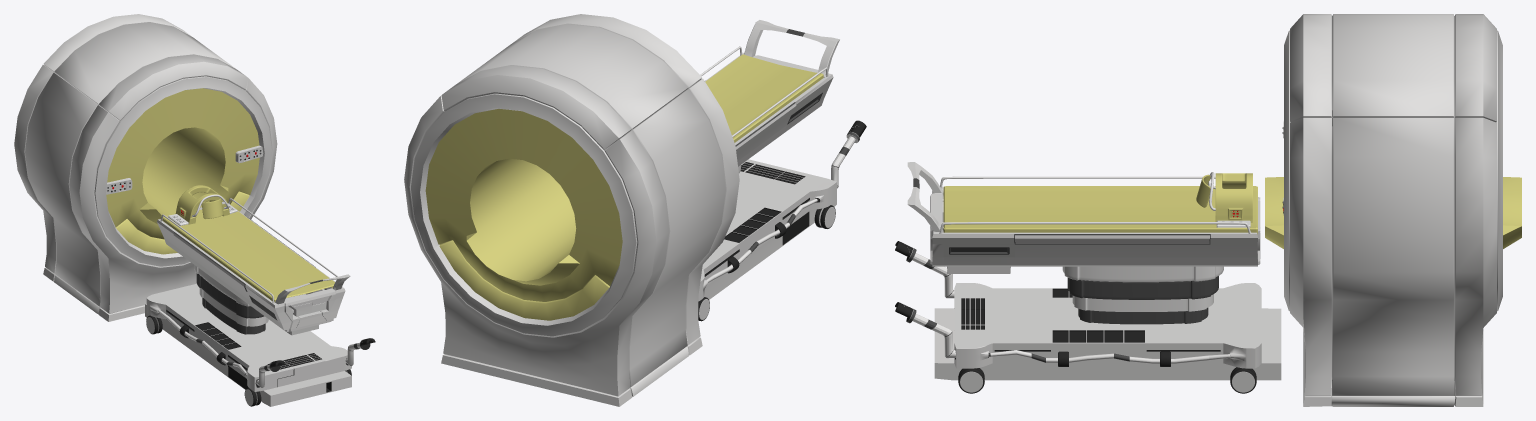
The model's file is mri texture.fbx.
The picture shows the model from 3 angles, left to right: view 1: azimuth 30°, elevation 25°; view 2: azimuth 150°, elevation 25°; view 3: azimuth 270°, elevation 25°; orthographic projection. The views are drawn at different scales.
Visible parts, largest first — view 1: Cylinder039, Box011, Object005, Object006, Rectangle003, Line011, Rectangle001, Rectangle005, Rectangle004, Box016, Box007; view 2: Cylinder039, Box011, Object005, Line011; view 3: Cylinder039, Box011, Object005, Rectangle003, Rectangle004, Line002, Object006, Rectangle001, Rectangle005, Line010, Line009, Line011 (+2 smaller).
Part boxes in pixels (x1=…): Cylinder039: x1=14, y1=14, x2=277, y2=321; Box011: x1=157, y1=209, x2=350, y2=335; Object005: x1=145, y1=283, x2=351, y2=406; Object006: x1=175, y1=185, x2=229, y2=224; Rectangle003: x1=196, y1=273, x2=264, y2=318; Line011: x1=157, y1=310, x2=284, y2=387; Rectangle001: x1=199, y1=288, x2=268, y2=326; Rectangle005: x1=202, y1=298, x2=265, y2=334; Rectangle004: x1=194, y1=265, x2=250, y2=306; Box016: x1=201, y1=198, x2=223, y2=219; Box007: x1=235, y1=145, x2=263, y2=163; Cylinder039: x1=404, y1=14, x2=739, y2=406; Box011: x1=705, y1=20, x2=839, y2=166; Object005: x1=698, y1=159, x2=836, y2=301; Line011: x1=706, y1=120, x2=866, y2=282; Cylinder039: x1=1265, y1=14, x2=1521, y2=406; Box011: x1=907, y1=162, x2=1260, y2=273; Object005: x1=934, y1=283, x2=1281, y2=380; Rectangle003: x1=1067, y1=276, x2=1218, y2=299; Rectangle004: x1=1062, y1=266, x2=1223, y2=282; Line002: x1=895, y1=302, x2=1230, y2=363; Object006: x1=1215, y1=173, x2=1252, y2=222; Rectangle001: x1=1072, y1=294, x2=1213, y2=311; Rectangle005: x1=1078, y1=307, x2=1208, y2=324; Line010: x1=939, y1=222, x2=1251, y2=233; Line009: x1=940, y1=176, x2=1215, y2=188; Line011: x1=895, y1=241, x2=954, y2=298.
Size of what is drawn, in the model's own units: 210 by 245 by 418.
